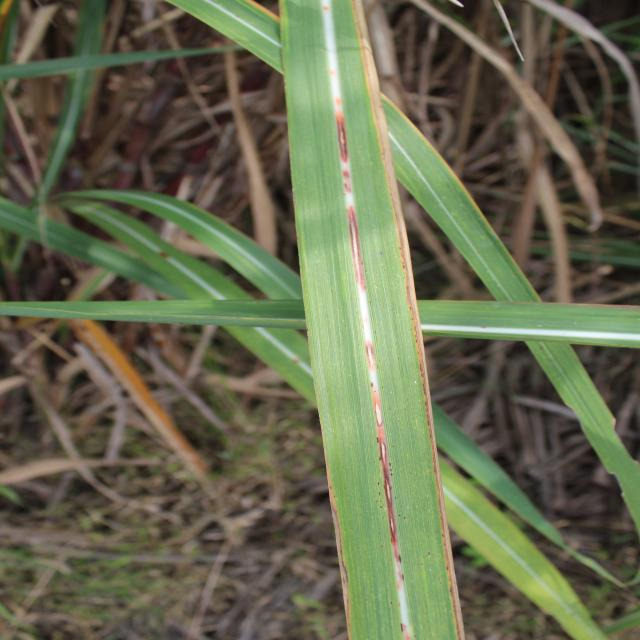Sugarcane: (282, 7, 415, 634), (0, 300, 636, 341)
